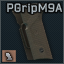M9A3 polymer pistol grip: (0, 0, 64, 64)
